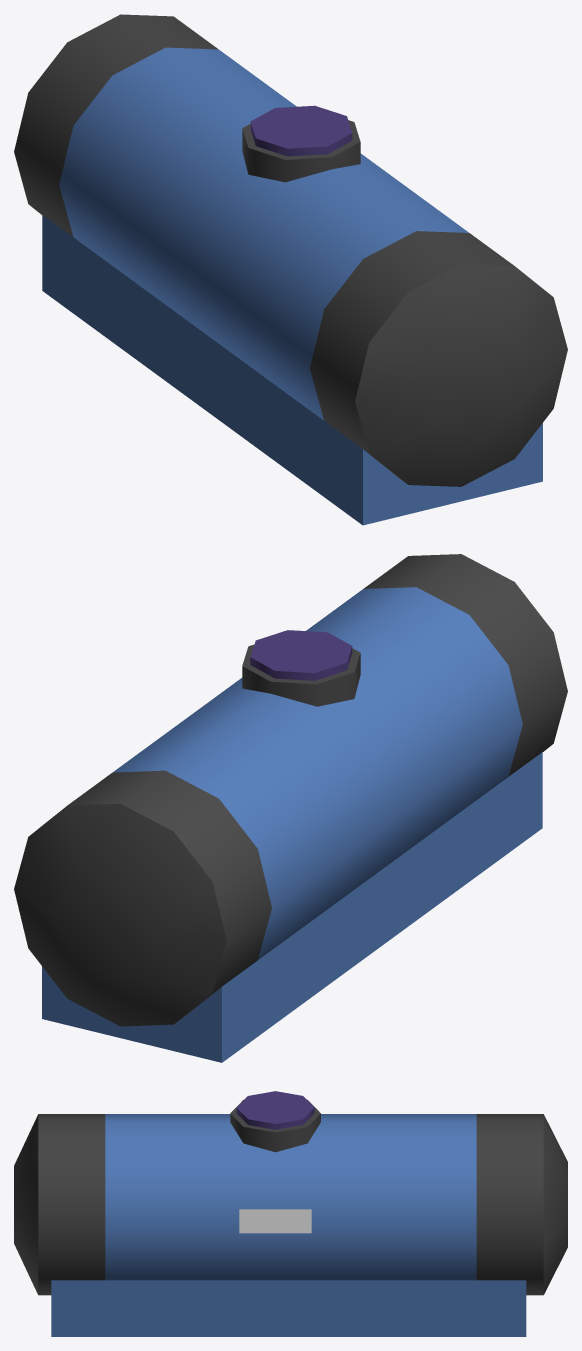
File: Gas_Tank_1.fbx
3 views of the same model, one above another, from view 1: azimuth 30°, elevation 25°; view 2: azimuth 150°, elevation 25°; view 3: azimuth 270°, elevation 25° (orthographic). The views are drawn at different scales.
Parts seen in each view (by area): view 1: Gas_Tank_1; view 2: Gas_Tank_1; view 3: Gas_Tank_1.
Part boxes in pixels (<box>): Gas_Tank_1: <box>14,14,567,525</box>; Gas_Tank_1: <box>14,554,567,1062</box>; Gas_Tank_1: <box>14,1091,567,1336</box>.
Size of the model in its own units: 1.18 by 1.41 by 3.6.
